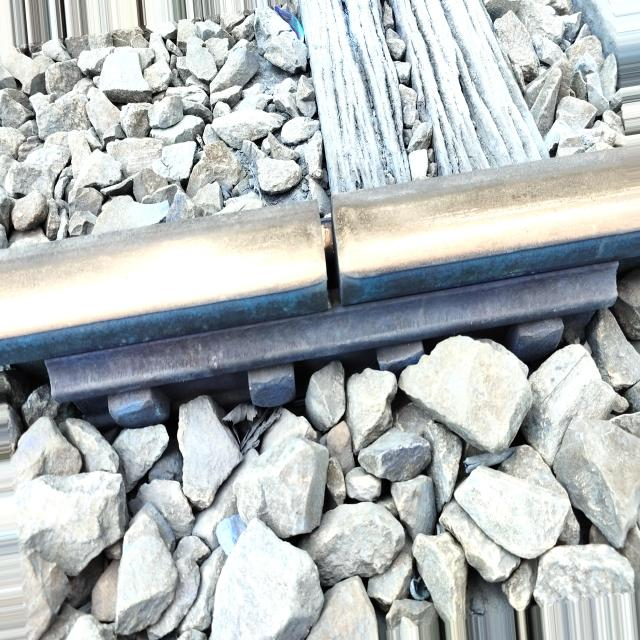crack: (298, 178, 359, 324)
